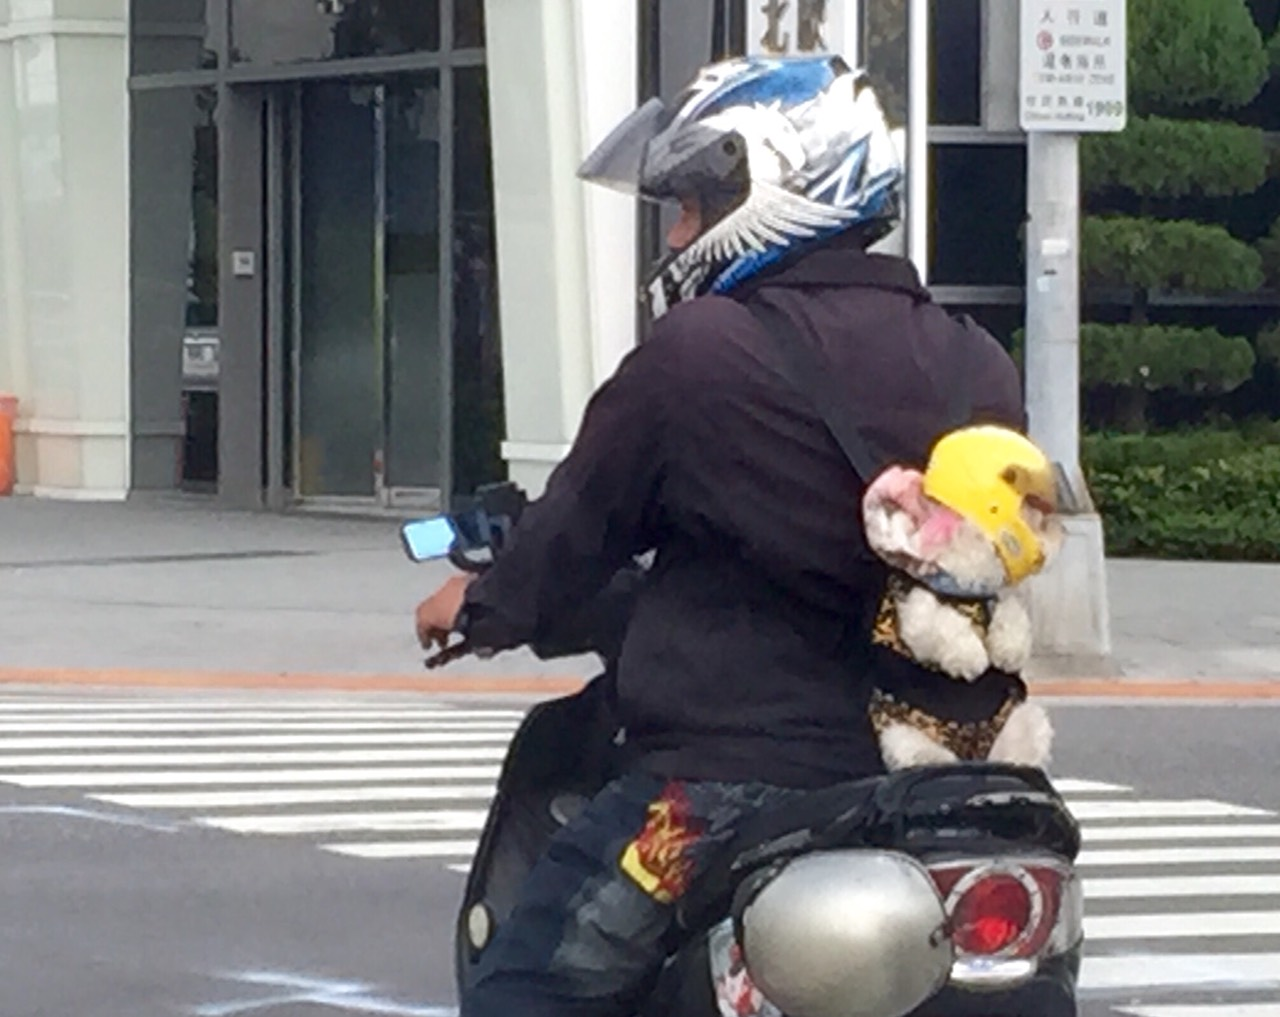helmet: (597, 58, 917, 292)
